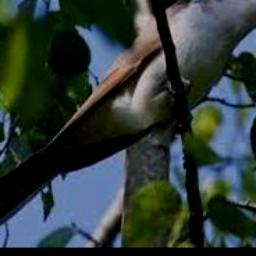Cuckoo: (0, 0, 256, 237)
